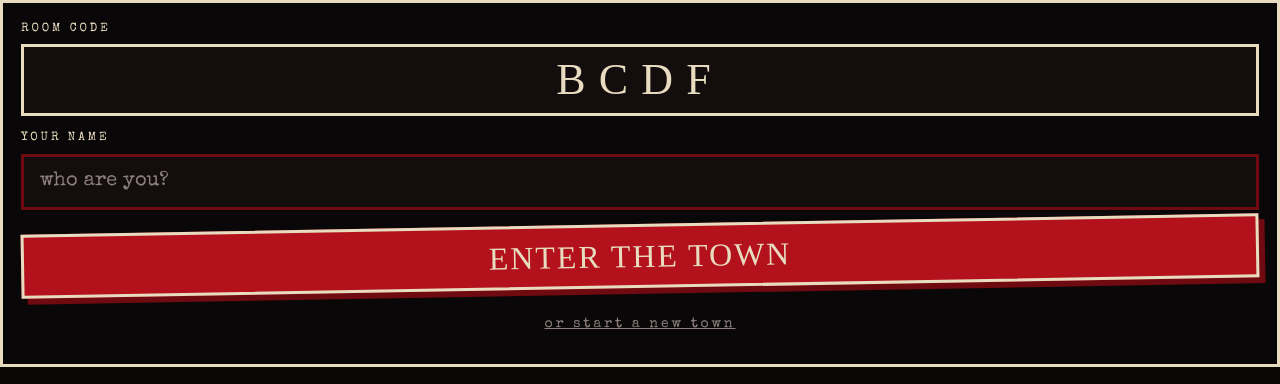
Test: JoinForm › ignores a second click while the first request is in flight
Later steps or results of the test are not shown.
In the field labelled "Your name": [640, 182] box [21,154,1259,210], type "Ada"
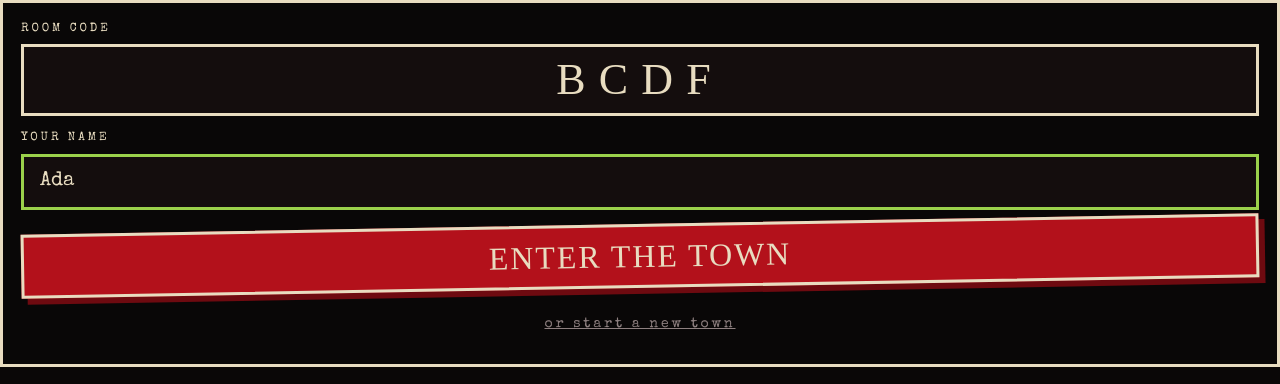
Click the button "ENTER THE TOWN": [640, 256] box [20,213,1259,299]
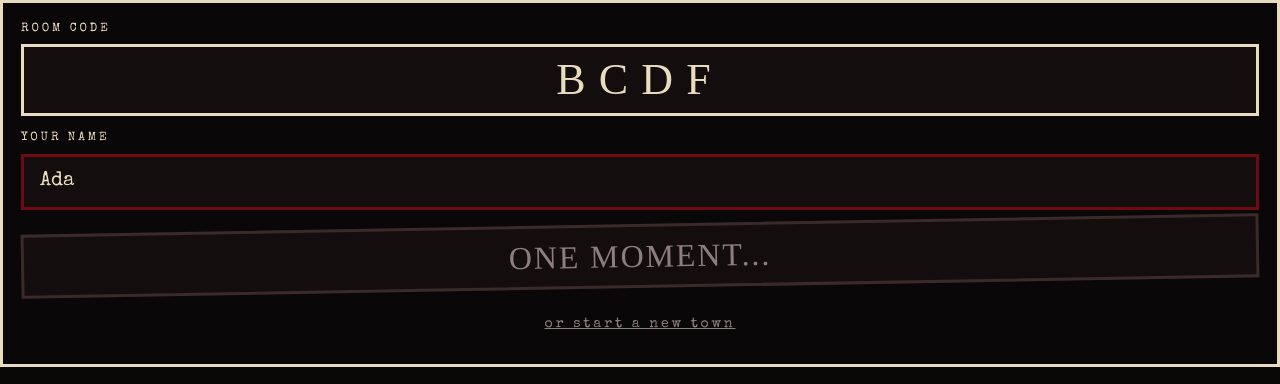
Expected: the button "ONE MOMENT..." is disabled, [20,213,1259,299]
